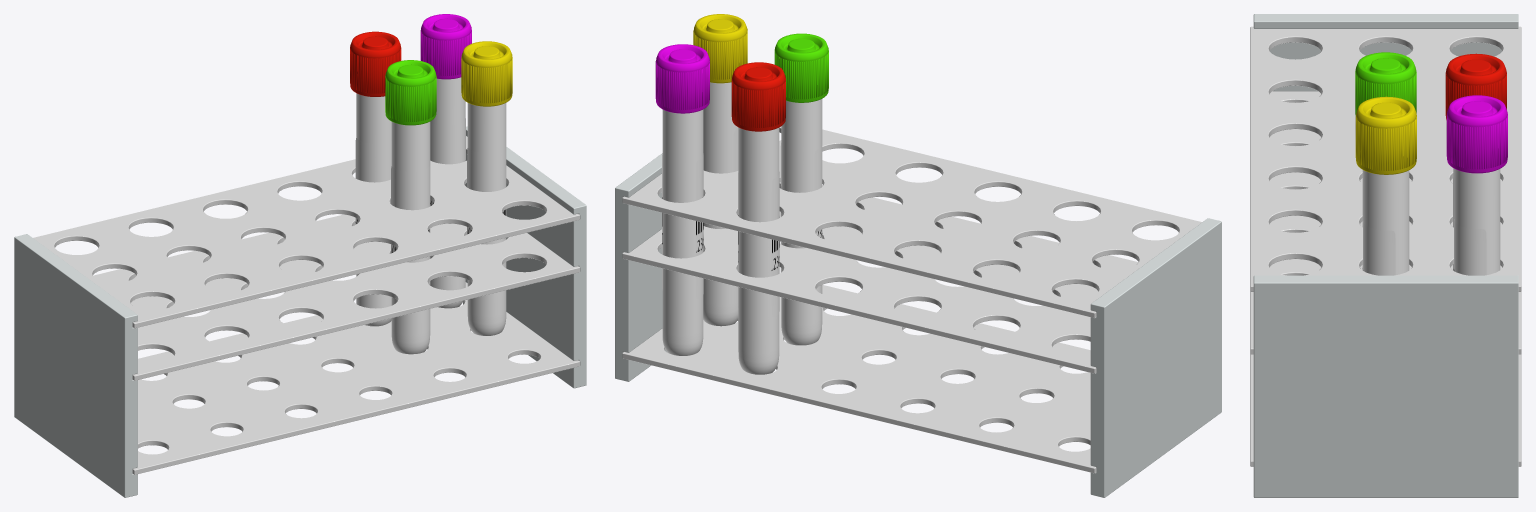
Rendered from Tubes-De-Prelevement-Projet-Doceo.fbx.
The picture shows the model from 3 angles, left to right: view 1: azimuth 30°, elevation 25°; view 2: azimuth 150°, elevation 25°; view 3: azimuth 270°, elevation 25°; orthographic projection. The views are drawn at different scales.
Parts seen in each view (by area): view 1: Support-Tubes-Prelevement, Tube-Violet.001, Tube-Vert, Tube-Rouge, Tube-Violet; view 2: Support-Tubes-Prelevement, Tube-Rouge, Tube-Violet, Tube-Vert, Tube-Violet.001; view 3: Support-Tubes-Prelevement, Tube-Violet, Tube-Violet.001, Tube-Vert, Tube-Rouge.
Boxes of the visible parts, x1,y1,x2,y2 form: Support-Tubes-Prelevement: [14, 126, 586, 497]; Tube-Violet.001: [461, 41, 512, 335]; Tube-Vert: [385, 60, 436, 354]; Tube-Rouge: [350, 31, 401, 326]; Tube-Violet: [420, 14, 471, 308]; Support-Tubes-Prelevement: [615, 126, 1221, 497]; Tube-Rouge: [731, 62, 785, 374]; Tube-Violet: [655, 44, 709, 355]; Tube-Vert: [774, 33, 828, 345]; Tube-Violet.001: [693, 14, 747, 326]; Support-Tubes-Prelevement: [1250, 14, 1521, 497]; Tube-Violet: [1446, 95, 1507, 275]; Tube-Violet.001: [1355, 96, 1416, 275]; Tube-Vert: [1355, 52, 1416, 270]; Tube-Rouge: [1445, 53, 1506, 270].
Bounding box in the file's own units: 17.25 × 10.88 × 7.35.
Materials: 7 (1 with a texture image).
